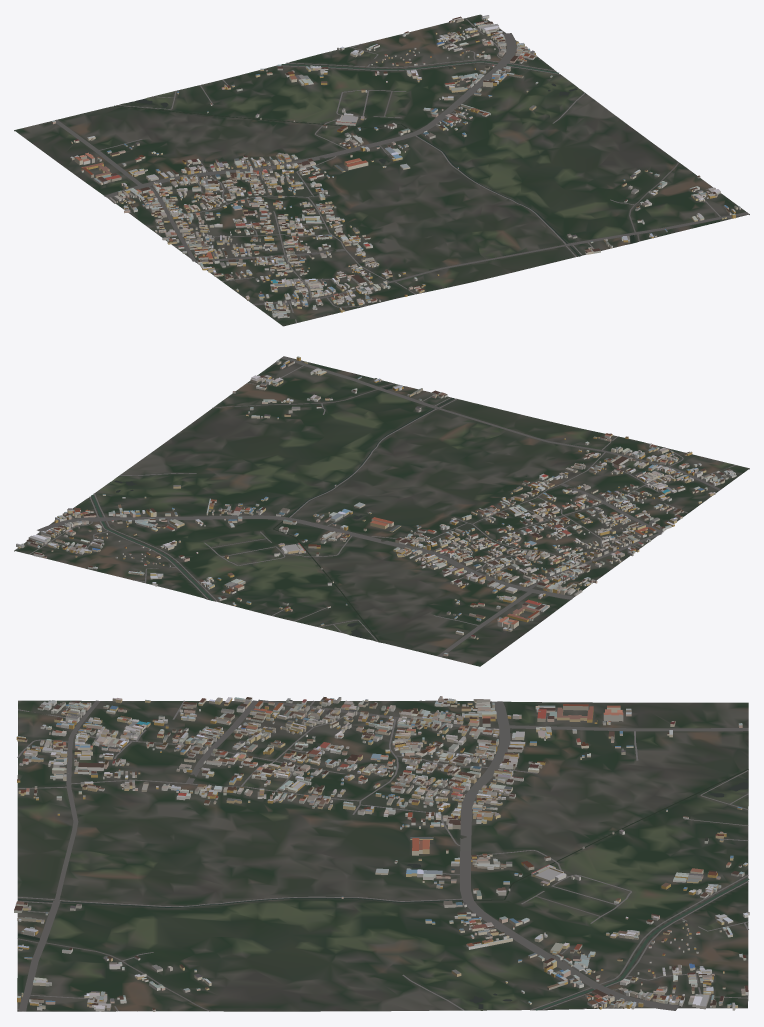
3 views of the same model, one above another, from view 1: azimuth 30°, elevation 25°; view 2: azimuth 150°, elevation 25°; view 3: azimuth 270°, elevation 25° (orthographic). The views are drawn at different scales.
Parts seen in each view (by area): view 1: ground, buildings, roads, water; view 2: ground, buildings, roads, water; view 3: ground, buildings, roads, water.
Part boxes in pixels (x1,y1,x2,y2): ground: (14,14,749,326); buildings: (51,15,740,318); roads: (55,18,748,323); water: (114,61,634,256); ground: (14,356,749,666); buildings: (16,356,736,656); roads: (29,356,736,657); water: (91,386,453,642); ground: (17,700,748,1011); buildings: (14,696,749,1011); roads: (17,699,748,1011); water: (17,769,749,1010).
Size of the model in its own units: 1422 by 21.4 by 1411.
